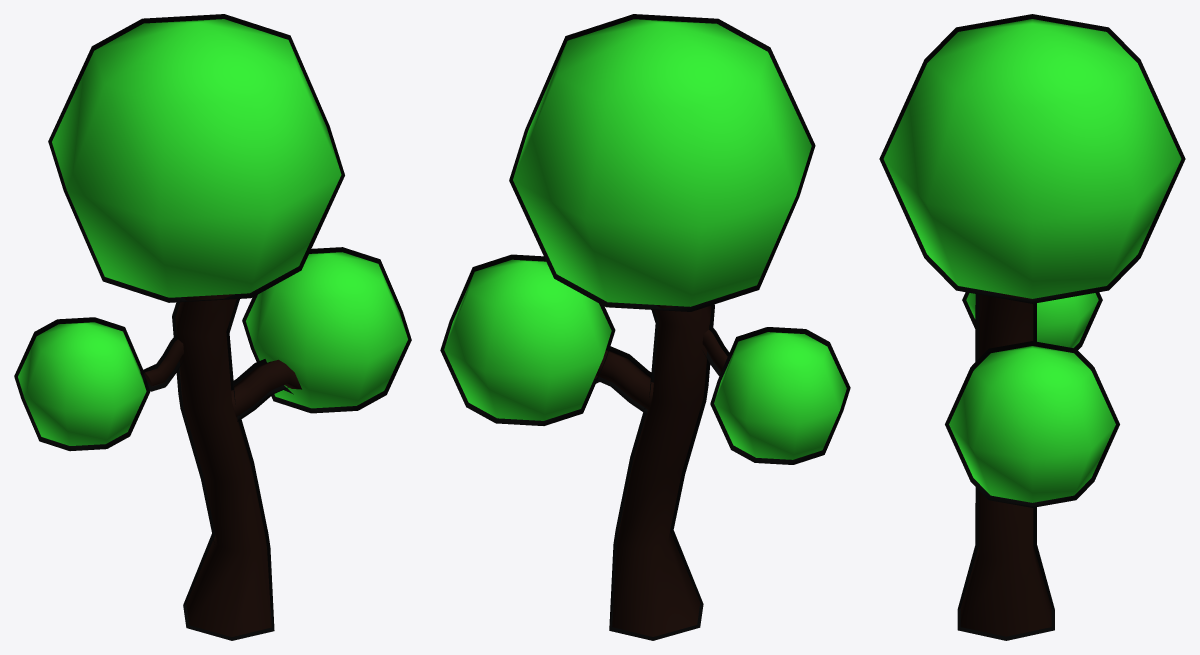
Rendered from Healthy tree.FBX.
3 renders of one model, left to right at view 1: azimuth 30°, elevation 25°; view 2: azimuth 150°, elevation 25°; view 3: azimuth 270°, elevation 25°, orthographic. The views are drawn at different scales.
Visible parts, largest first — view 1: Healthy tree; view 2: Healthy tree; view 3: Healthy tree.
Boxes of the visible parts, <box> form: Healthy tree: <box>14,14,411,640</box>; Healthy tree: <box>440,14,850,640</box>; Healthy tree: <box>879,14,1185,640</box>.
Bounding box in the file's own units: 17.54 × 26.2 × 12.27.
